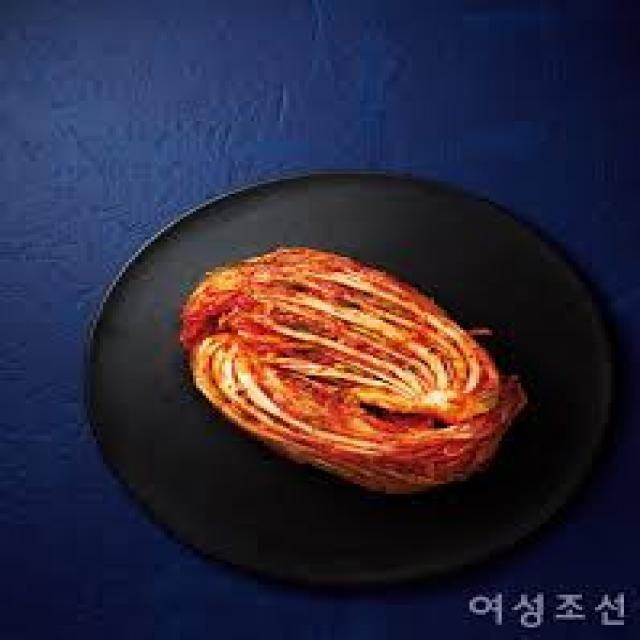kimchi: (174, 237, 534, 501)
